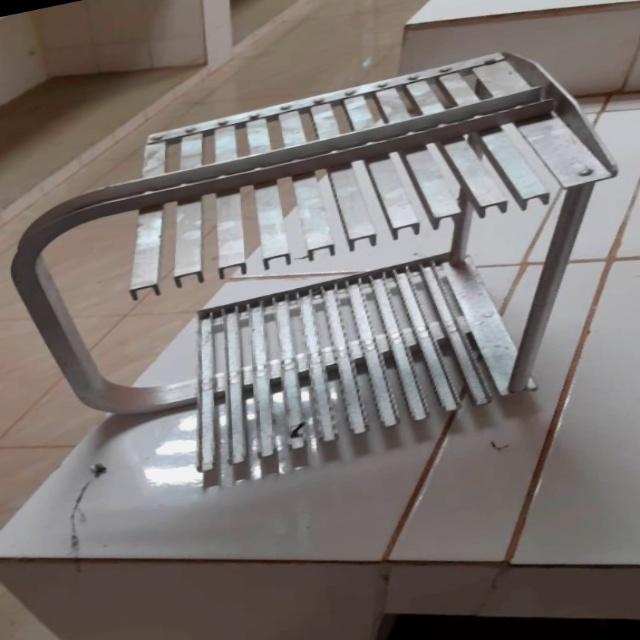Plate Rack: (2, 18, 640, 524)
